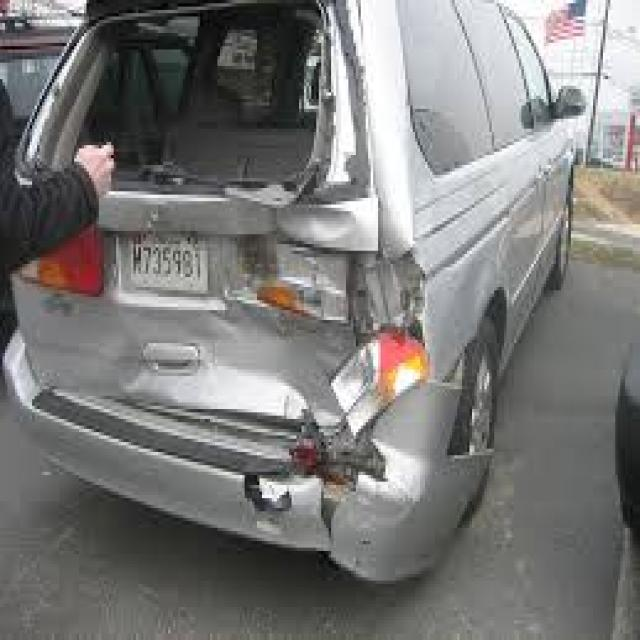minor: (195, 0, 418, 635)
